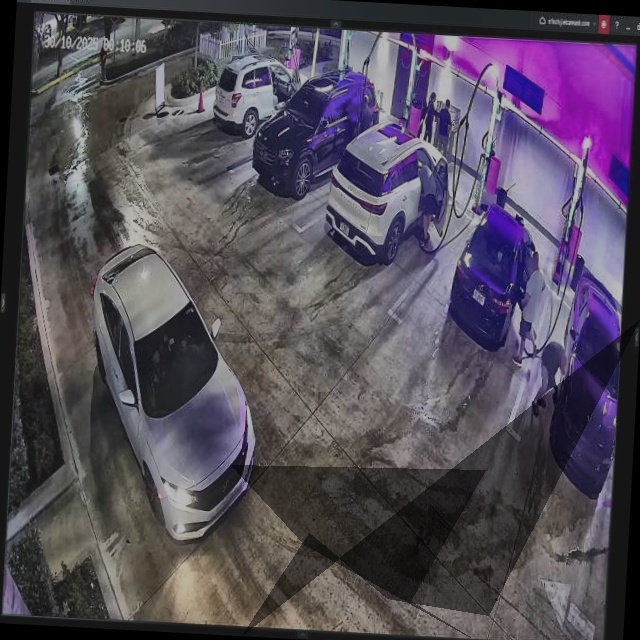Car: (78, 236, 267, 546), (327, 118, 452, 272), (250, 64, 381, 197), (446, 201, 539, 347)
